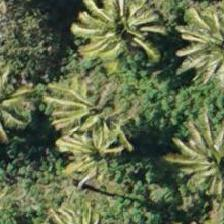coconut_tree: (59, 57, 149, 147), (52, 107, 142, 197), (89, 0, 179, 77), (170, 110, 223, 200)
